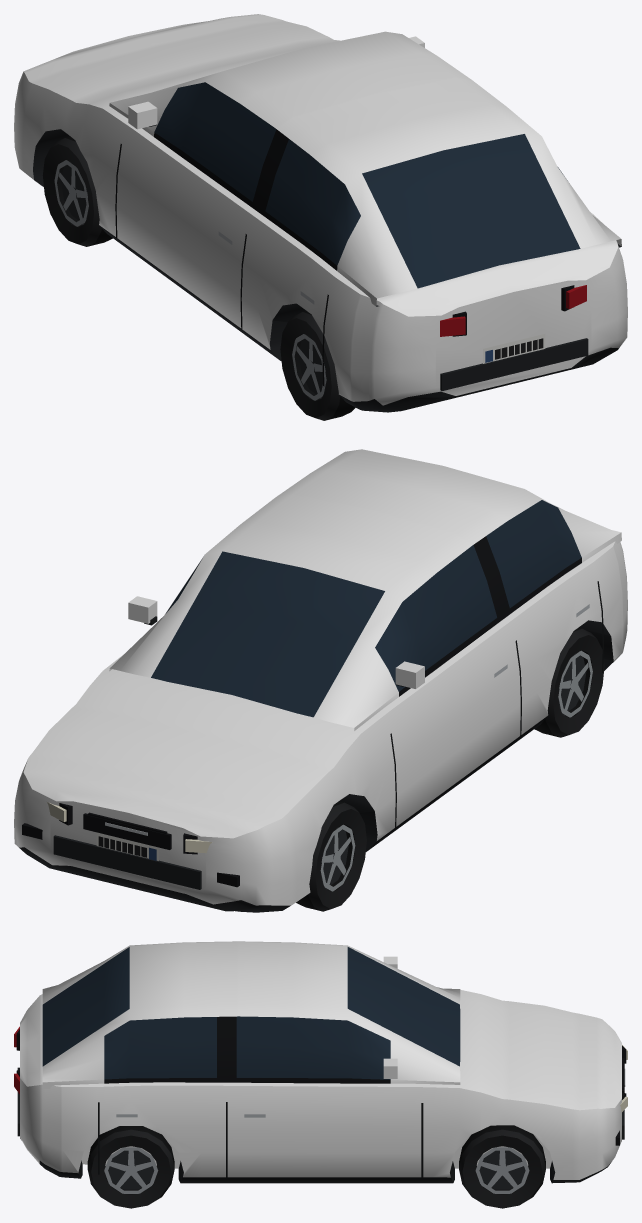
The model's file is hatch.glb.
3 renders of one model, top to bottom at view 1: azimuth 30°, elevation 25°; view 2: azimuth 150°, elevation 25°; view 3: azimuth 270°, elevation 25°, orthographic. The views are drawn at different scales.
Visible parts, largest first — view 1: hatch; view 2: hatch; view 3: hatch.
Part boxes in pixels (x1,y1,x2,y2): hatch: (14,14,627,420); hatch: (14,449,627,912); hatch: (14,941,627,1208).
Size of the model in its own units: 1.85 by 1.48 by 4.37.
